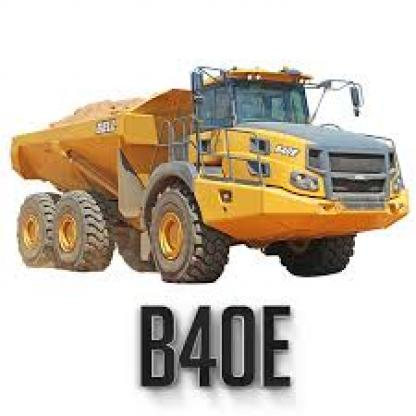dump_truck: (0, 53, 401, 283)
